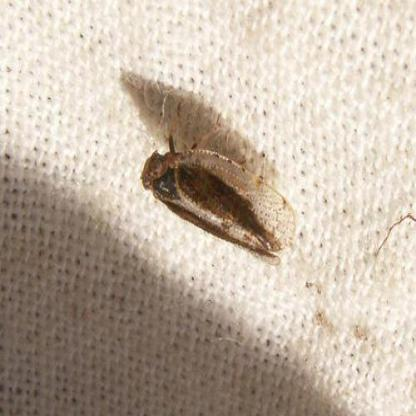brown-planthopper: (137, 138, 298, 257)
